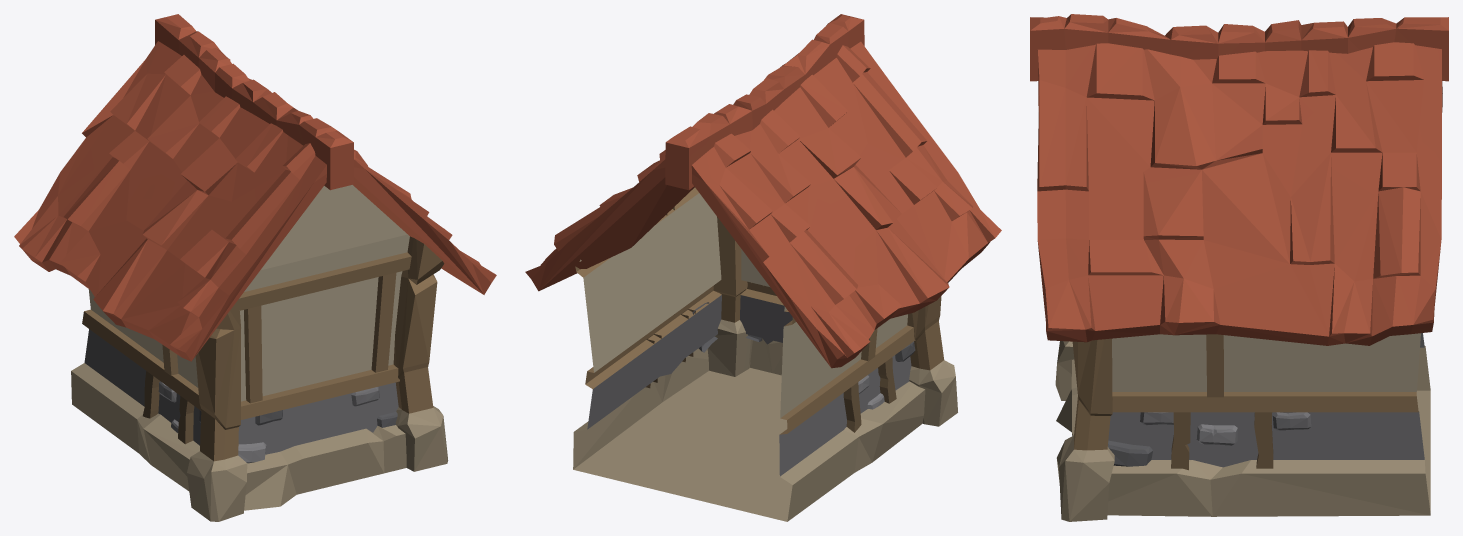
Rendered from SM_Bld_House_Extension_02.glb.
3 views of the same model, side by side, from view 1: azimuth 30°, elevation 25°; view 2: azimuth 150°, elevation 25°; view 3: azimuth 270°, elevation 25° (orthographic). The views are drawn at different scales.
Visible parts, largest first — view 1: SM_Bld_House_Extension_02; view 2: SM_Bld_House_Extension_02; view 3: SM_Bld_House_Extension_02.
Boxes of the visible parts, box(x1,y1,x2,y2) form: SM_Bld_House_Extension_02: box(14, 14, 496, 521); SM_Bld_House_Extension_02: box(525, 14, 1001, 521); SM_Bld_House_Extension_02: box(1030, 14, 1448, 521).
Size of the model in its own units: 4.39 by 4.53 by 3.98.
Materials: 1 (1 with a texture image).
